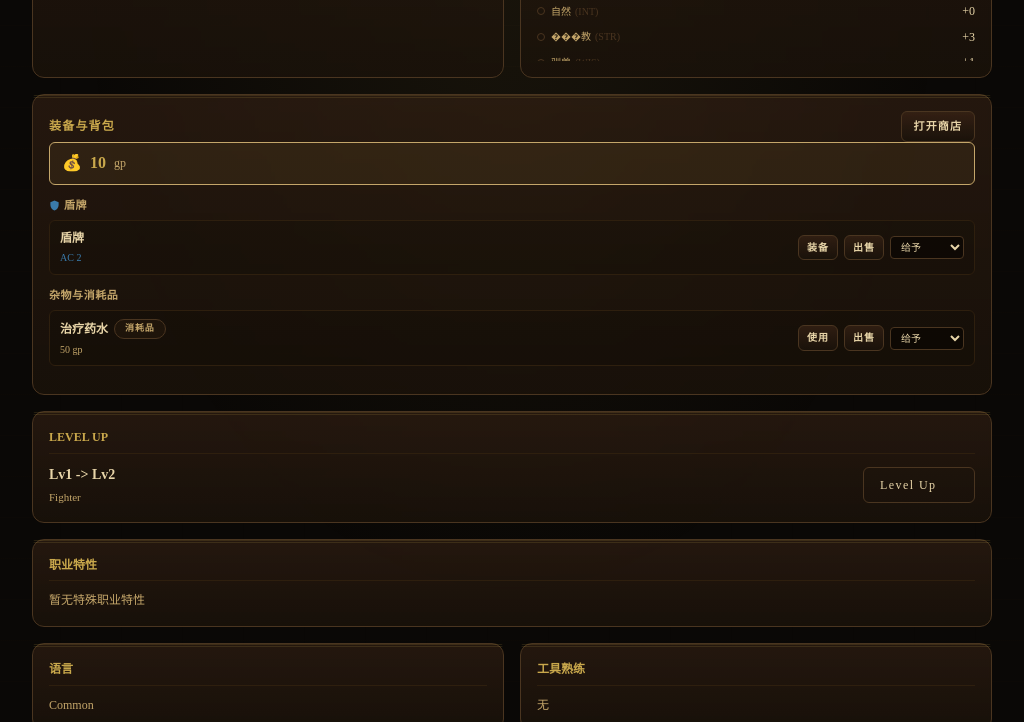
it: CharacterSheet inventory integration › refreshes sheet hit points after using a consumable
(page scrolled)
Check: the text "治疗药水" is shown, box [60,320,108,338]
Click the button "使用". click: (818, 338)
box: [798,326,838,351]
(page scrolled)
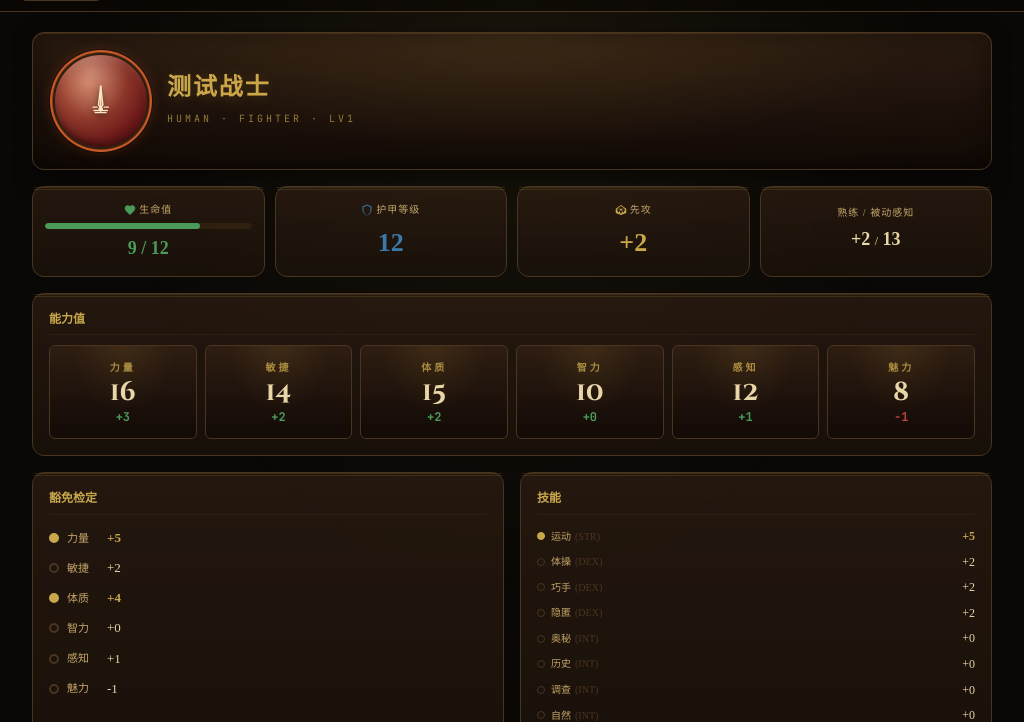
Check: the text "9 / 12" is shown, box [128,238,169,258]
